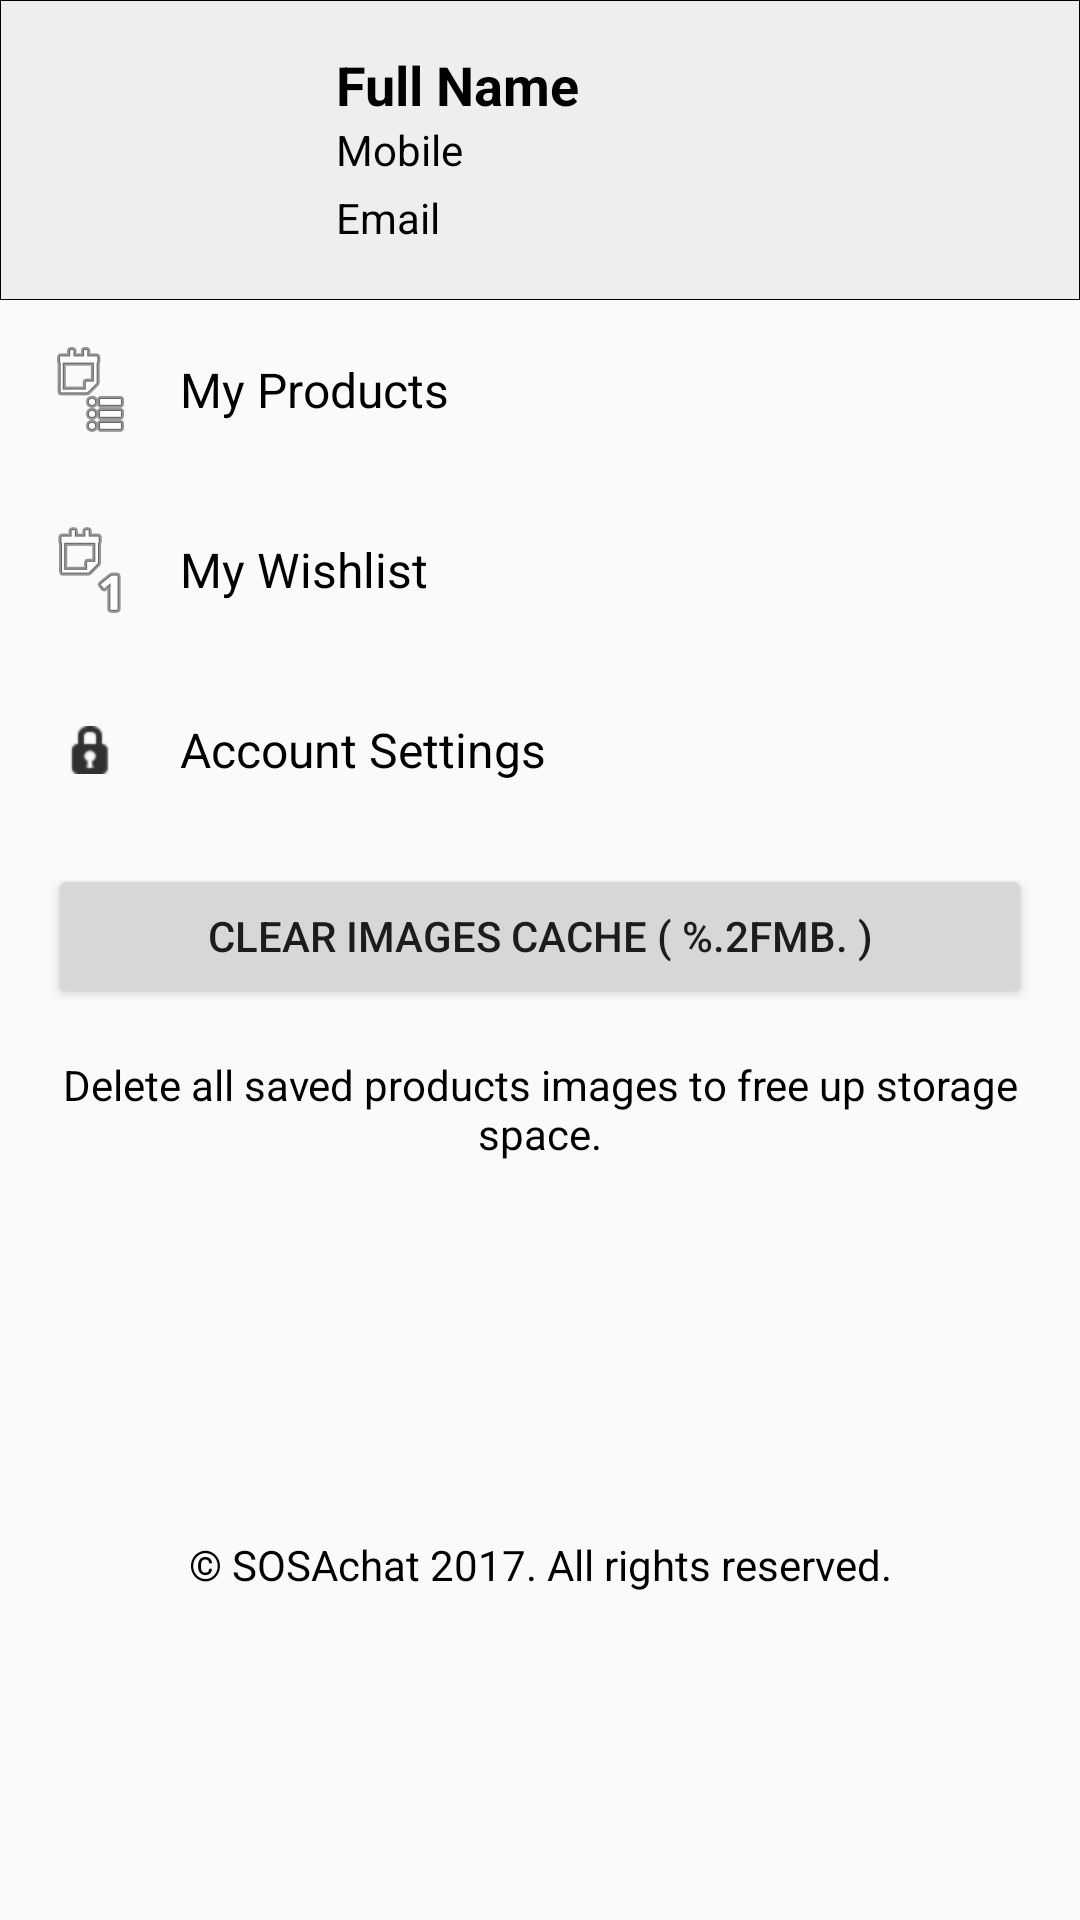

Named icons in this screenshot (1080 x 1920) and their bounding boxes, (x1, y1, x2, y2):
agenda: (57, 347, 124, 432)
day: (58, 527, 121, 613)
secure: (71, 726, 109, 774)
